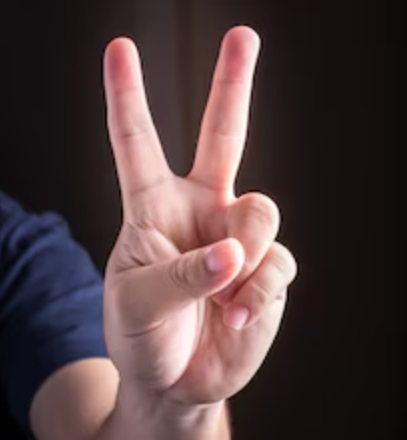peace: (100, 25, 298, 407)
